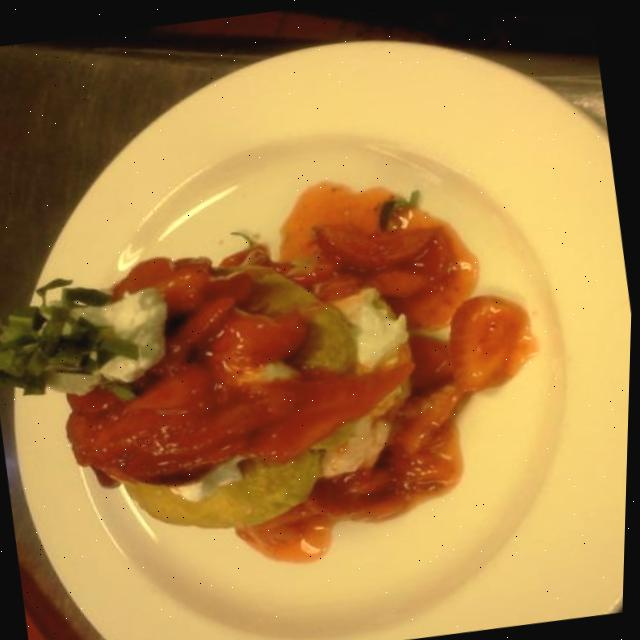蛋糕甜品: (0, 130, 592, 636)
